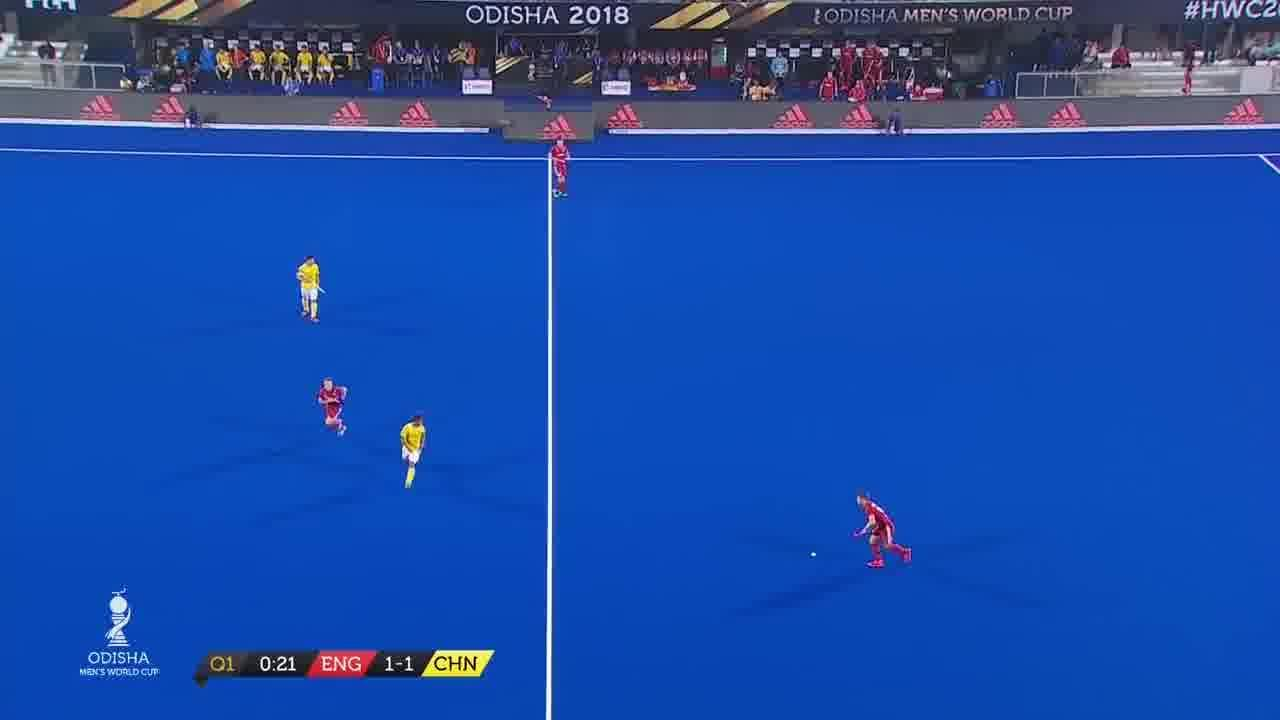ball: (807, 549, 818, 564)
